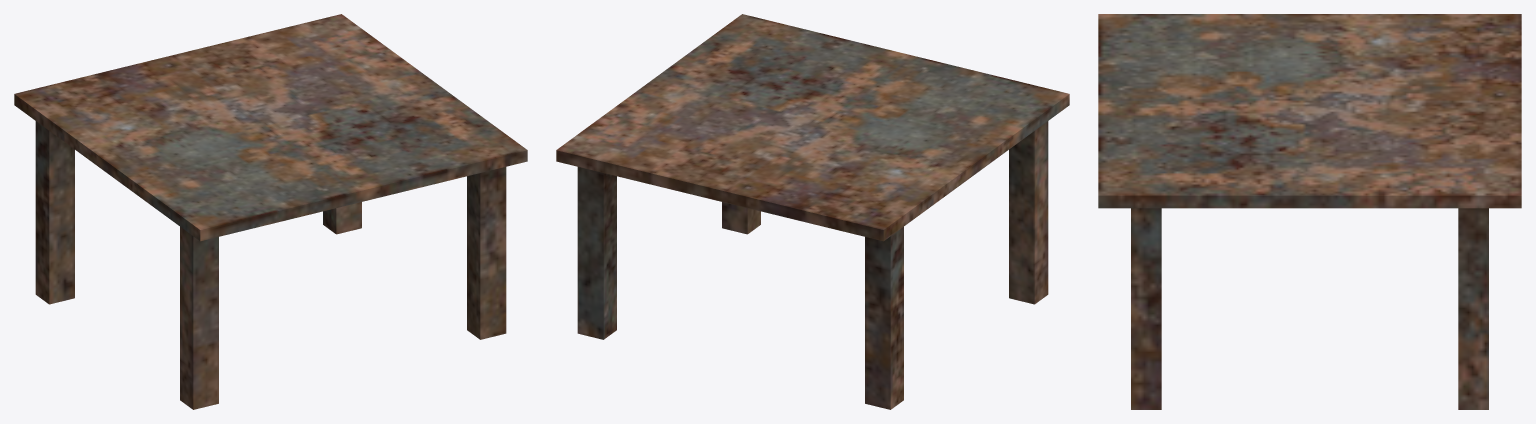
The model's file is TankBase.FBX.
3 views of the same model, side by side, from view 1: azimuth 30°, elevation 25°; view 2: azimuth 150°, elevation 25°; view 3: azimuth 270°, elevation 25° (orthographic). The views are drawn at different scales.
Visible parts, largest first — view 1: TankBase; view 2: TankBase; view 3: TankBase.
Boxes of the visible parts, box(x1,y1,x2,y2) form: TankBase: box(14, 14, 527, 409); TankBase: box(556, 14, 1069, 409); TankBase: box(1098, 14, 1521, 409).
Size of the model in its own units: 530 by 297 by 522.
